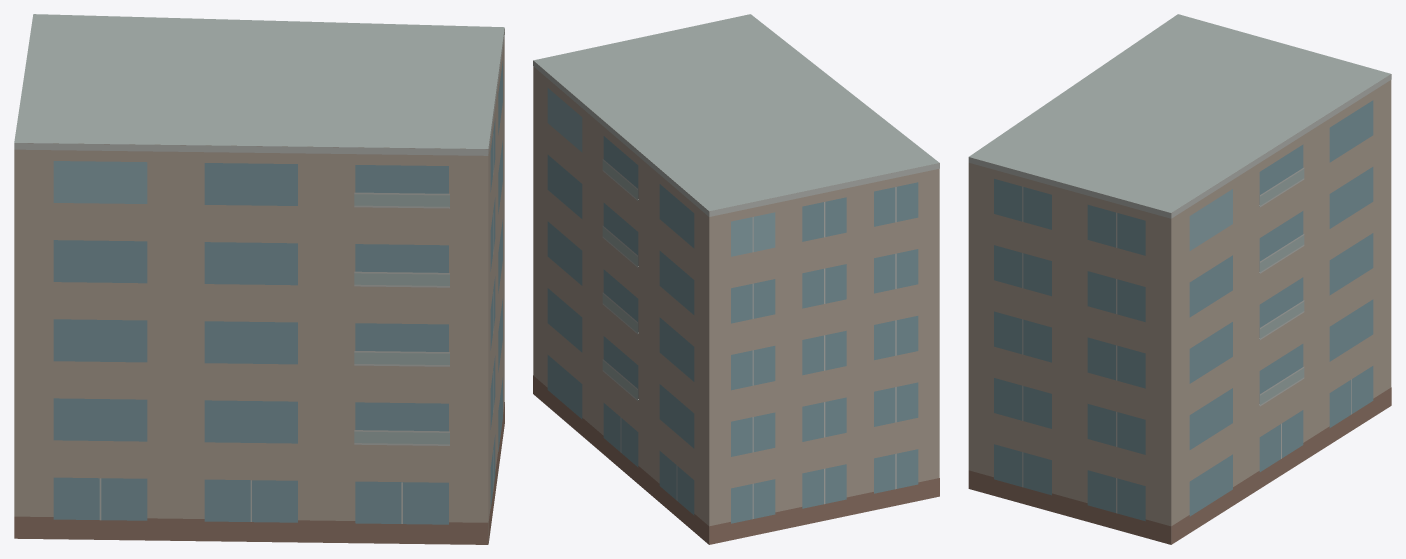
Rendered from survey-upis-32912196.glb.
The picture shows the model from 3 angles, left to right: view 1: azimuth 30°, elevation 25°; view 2: azimuth 150°, elevation 25°; view 3: azimuth 270°, elevation 25°; orthographic projection. The views are drawn at different scales.
Parts seen in each view (by area): view 1: survey-upis-32912196.tmp; view 2: survey-upis-32912196.tmp; view 3: survey-upis-32912196.tmp.
Boxes of the visible parts, bbox=[...] form: survey-upis-32912196.tmp: bbox=[14, 14, 504, 544]; survey-upis-32912196.tmp: bbox=[533, 14, 939, 544]; survey-upis-32912196.tmp: bbox=[968, 14, 1391, 544].
Bounding box in the file's own units: 18.28 × 14.2 × 16.41.
